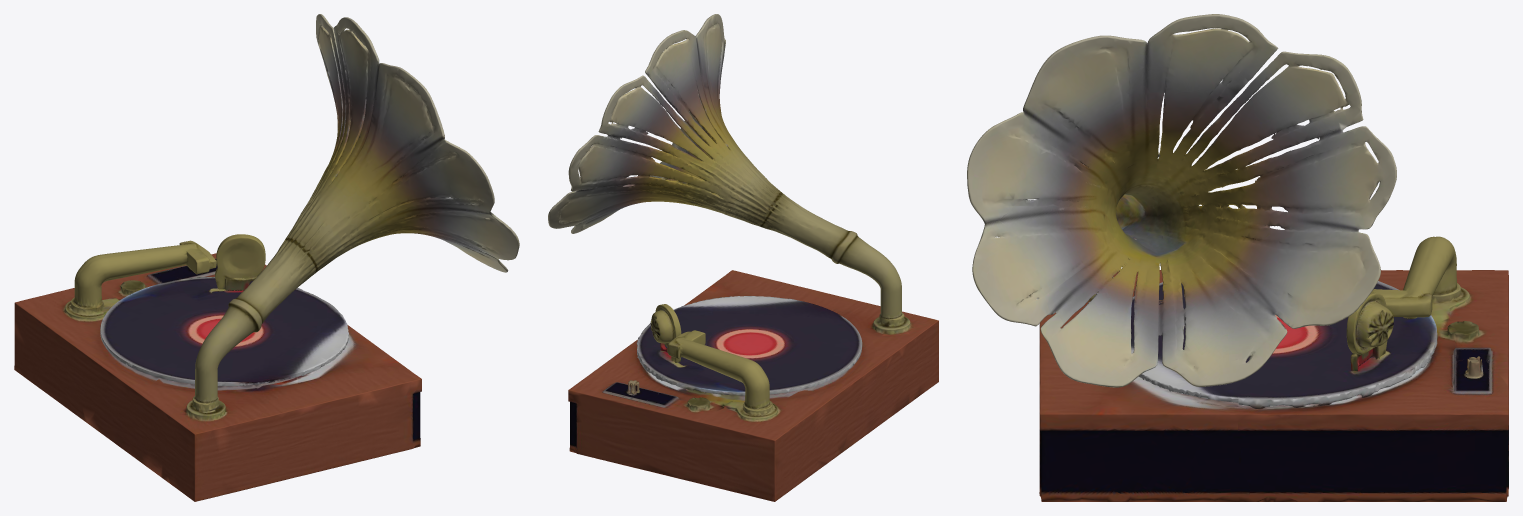
File: tocaDisc.fbx
3 renders of one model, left to right at view 1: azimuth 30°, elevation 25°; view 2: azimuth 150°, elevation 25°; view 3: azimuth 270°, elevation 25°, orthographic. The views are drawn at different scales.
Visible parts, largest first — view 1: tripo_node_73ffc826; view 2: tripo_node_73ffc826; view 3: tripo_node_73ffc826.
Boxes of the visible parts, x1,y1,x2,y2 form: tripo_node_73ffc826: (14, 14, 519, 501); tripo_node_73ffc826: (548, 14, 938, 501); tripo_node_73ffc826: (967, 14, 1508, 501).
Bounding box in the file's own units: 0.9021 × 0.9938 × 0.9999.
1 material, 1 textured.
